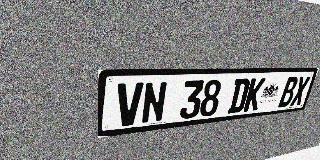3: (179, 80, 205, 119)
8: (198, 79, 223, 117)
B: (278, 77, 299, 108)
D: (227, 78, 251, 114)
K: (243, 78, 266, 112)
N: (141, 81, 168, 124)
V: (116, 82, 144, 127)
X: (290, 76, 311, 106)
